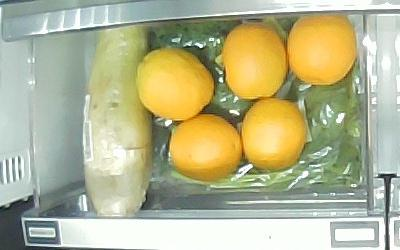orange: (136, 47, 214, 121), (222, 23, 288, 99), (287, 14, 356, 84), (170, 114, 242, 181), (242, 98, 306, 170)
